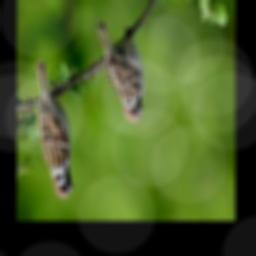Sparrow: (36, 60, 73, 199), (97, 21, 144, 124)
